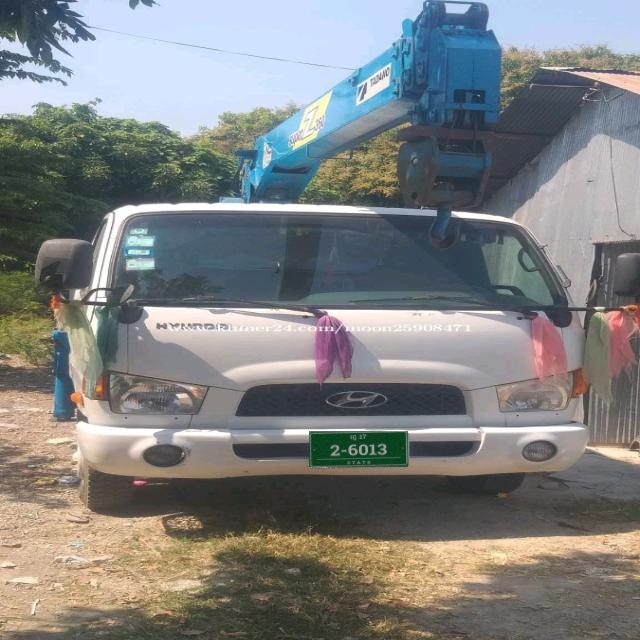Plate Number: (309, 431, 409, 468)
